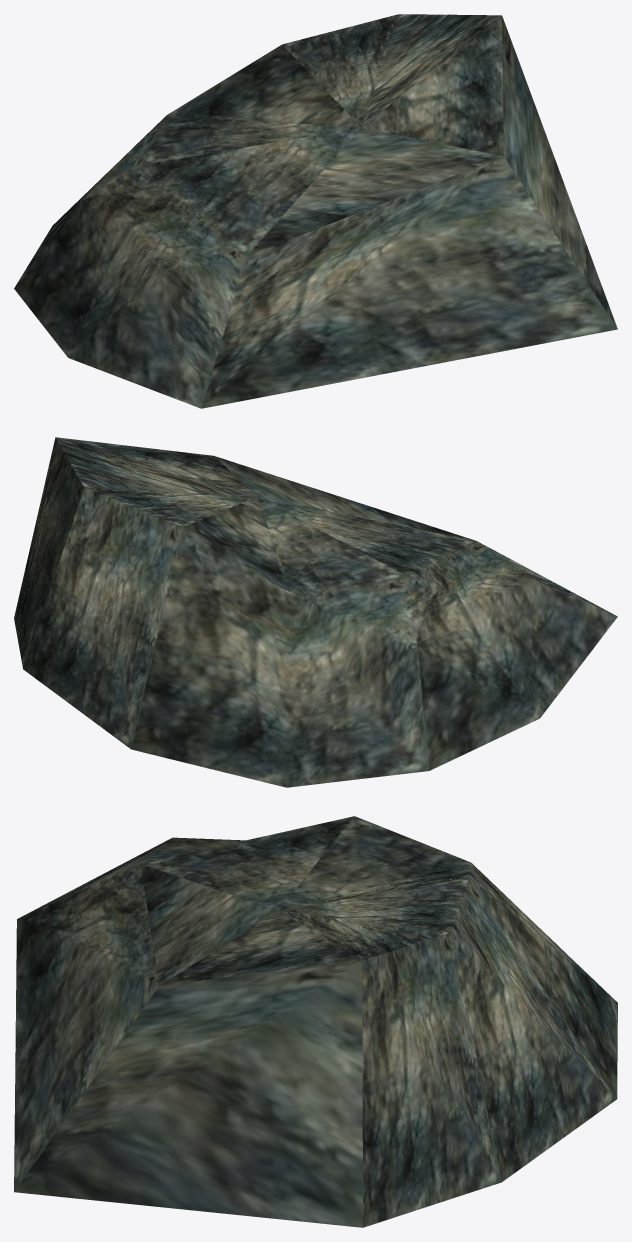
The model's file is pir_m_are_isl_rockSmall_low.fbx.
3 views of the same model, one above another, from view 1: azimuth 30°, elevation 25°; view 2: azimuth 150°, elevation 25°; view 3: azimuth 270°, elevation 25° (orthographic). The views are drawn at different scales.
Parts seen in each view (by area): view 1: horizon_lod; view 2: horizon_lod; view 3: horizon_lod.
Boxes of the visible parts, x1=… form: horizon_lod: x1=14, y1=14, x2=617, y2=408; horizon_lod: x1=14, y1=437, x2=617, y2=787; horizon_lod: x1=14, y1=816, x2=617, y2=1227.
Size of the model in its own units: 37484 by 14226 by 31441.
Materials: 1 (1 with a texture image).
